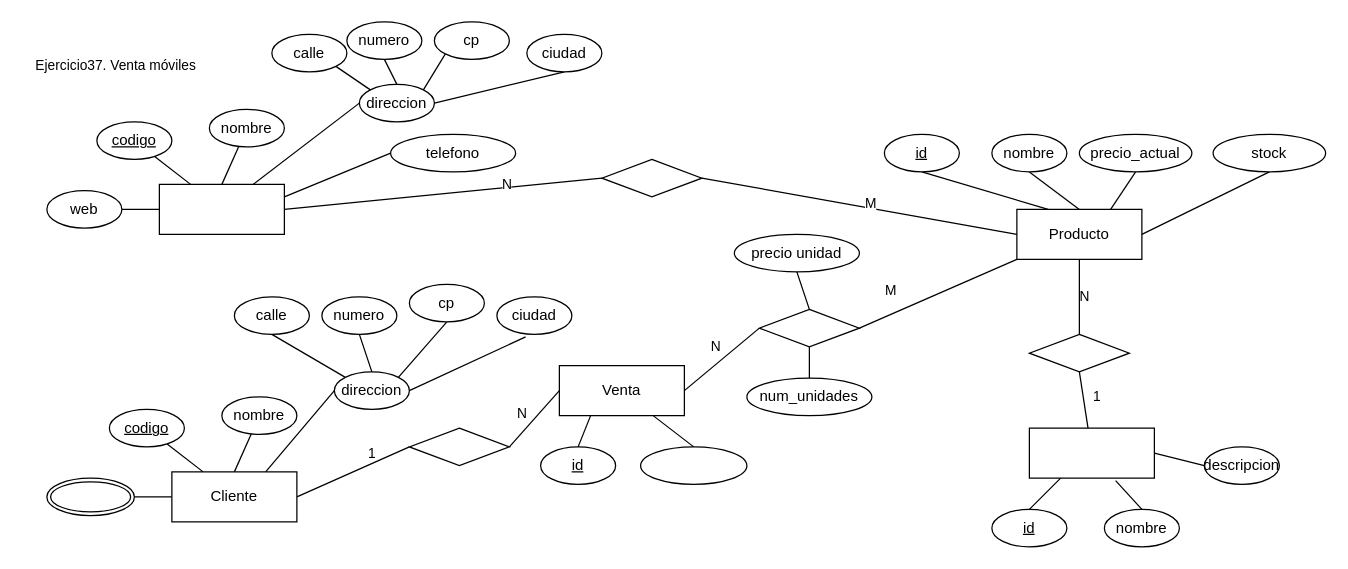
Some shapes in this 1348 by 569 pixel diagram are drawn without their labels. The shapes that lost their labels are listed below. From the top down, each one's centre as x and y in pixels, then its label:
At (651,177): "obtener".
At (221,208): "Proveedores".
At (808,327): "existen".
At (1078,352): "organiza".
At (458,446): "realiza".
At (693,465): "total_gastado".
At (1091,452): "Categorías".
At (90,496): "telefonos".
